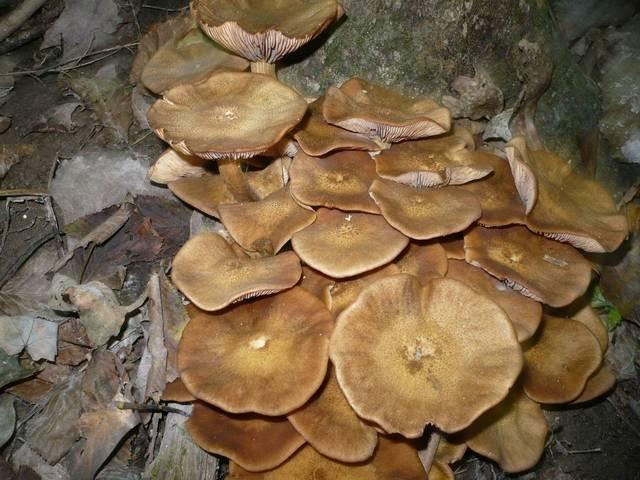Edible Mushroom: (131, 0, 627, 478)
